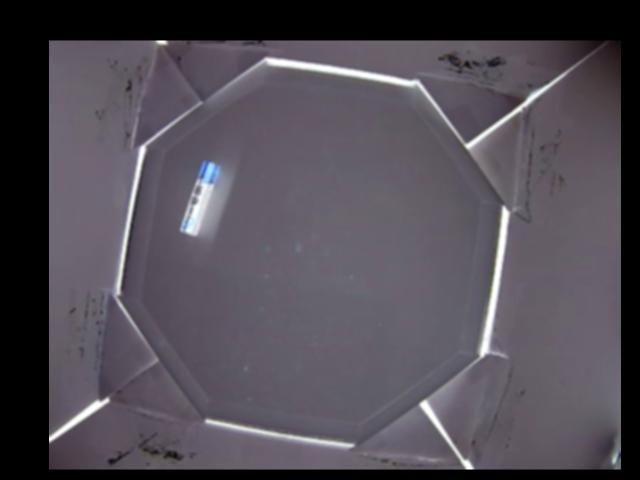Battery: (180, 161, 218, 234)
